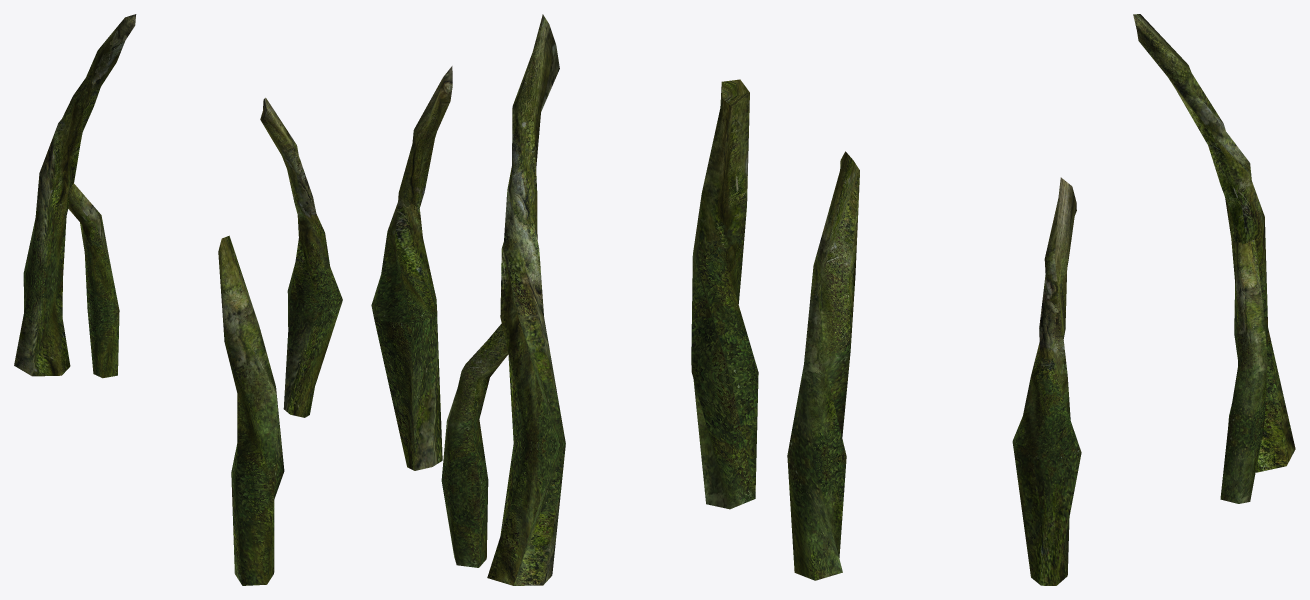
Rendered from prayer_tree_roof_05_re.fbx.
3 renders of one model, left to right at view 1: azimuth 30°, elevation 25°; view 2: azimuth 150°, elevation 25°; view 3: azimuth 270°, elevation 25°, orthographic. The views are drawn at different scales.
Visible parts, largest first — view 1: prayer_tree_roof_02; view 2: prayer_tree_roof_02; view 3: prayer_tree_roof_02.
Boxes of the visible parts, x1,y1,x2,y2 form: prayer_tree_roof_02: (14, 14, 342, 585); prayer_tree_roof_02: (371, 14, 758, 585); prayer_tree_roof_02: (787, 14, 1295, 585).
Size of the model in its own units: 9.23 by 18.15 by 14.83.
